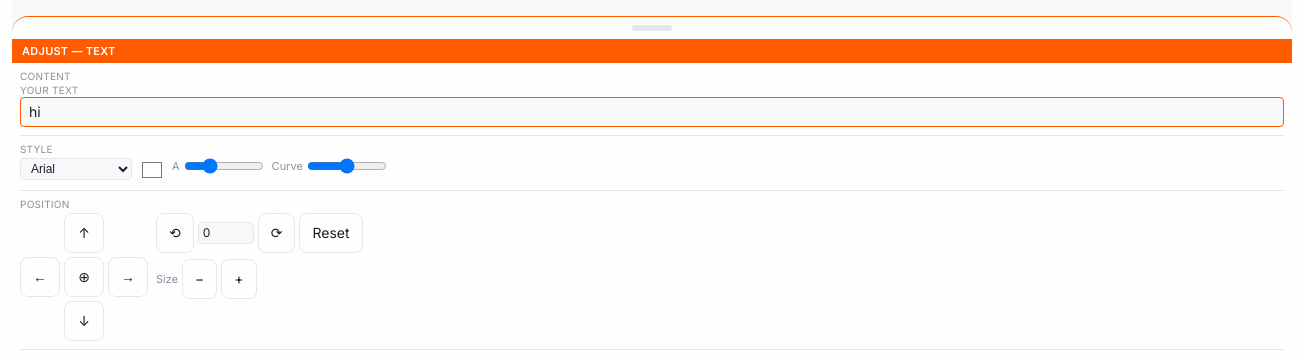
Test: SelectedToolbar transform controls › the degree readout shows the true 11.25, never a rounded 11.3
Click the button named "Rotate right 11.25 degrees": {"x": 277, "y": 233} [258,213,295,253]
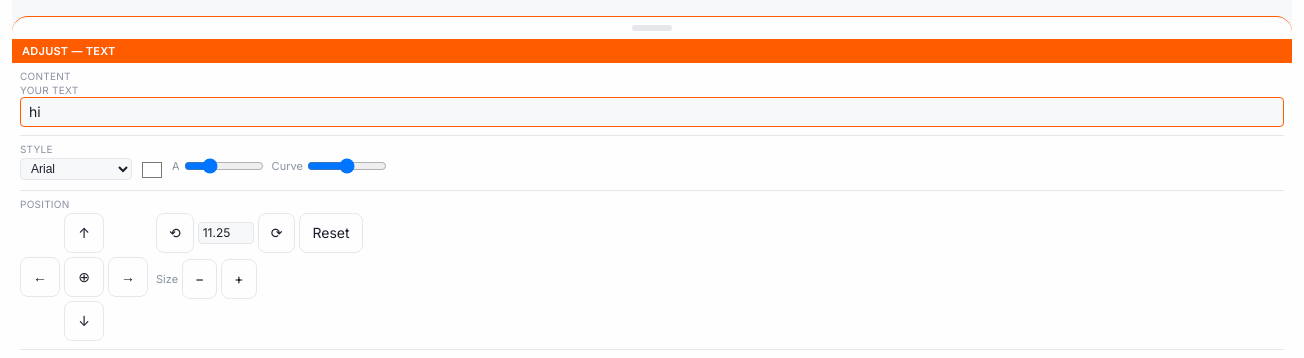
Expected: the number field named "Rotation degrees" holds "11.25", [198,222,254,244]
…and a whole number still reads as one — "22.5", not "22.50".
Click the button named "Rotate right 11.25 degrees": {"x": 277, "y": 233} [258,213,295,253]
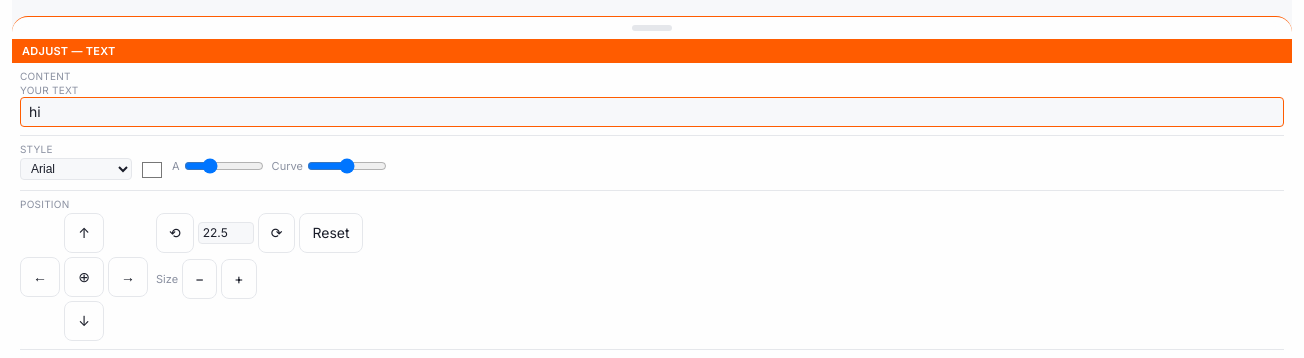
Expected: the number field named "Rotation degrees" holds "22.5", [198,222,254,244]
Click the button named "Rotate right 11.25 degrees": {"x": 277, "y": 233} [258,213,295,253]
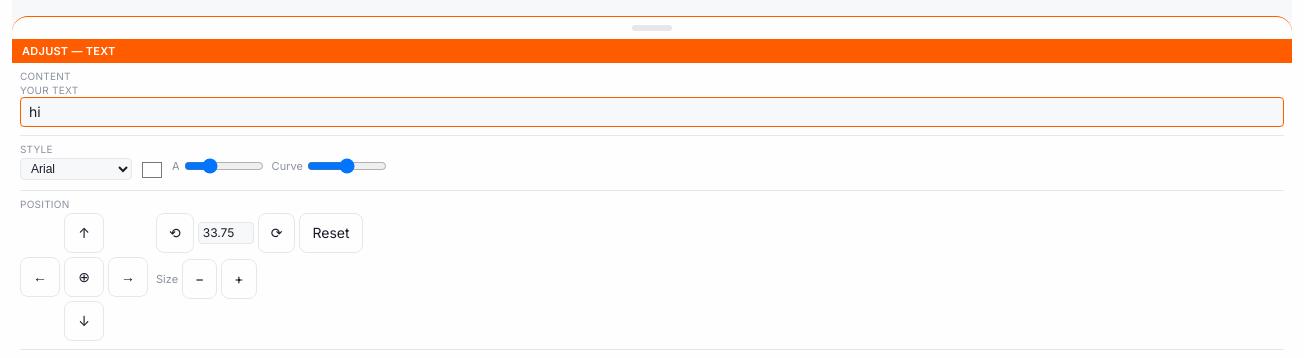
Click the button named "Rotate right 11.25 degrees": {"x": 277, "y": 233} [258,213,295,253]
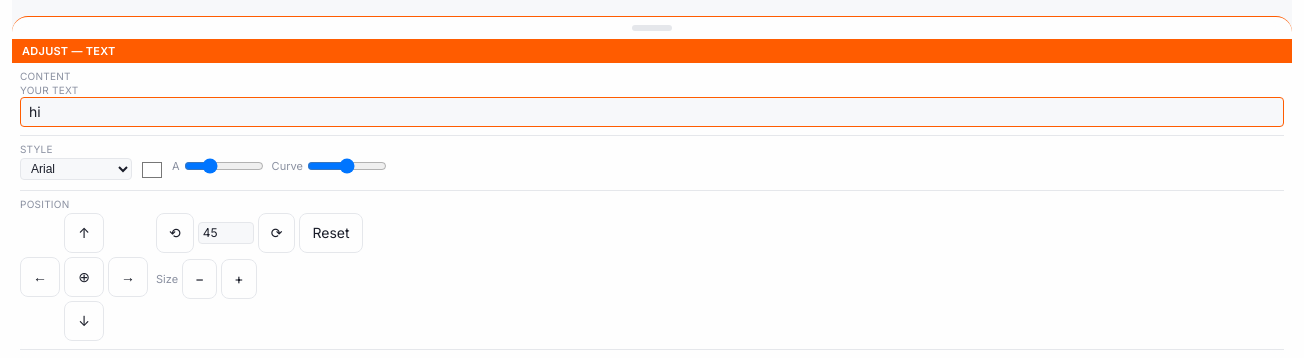
Expected: the number field named "Rotation degrees" holds "45", [198,222,254,244]
